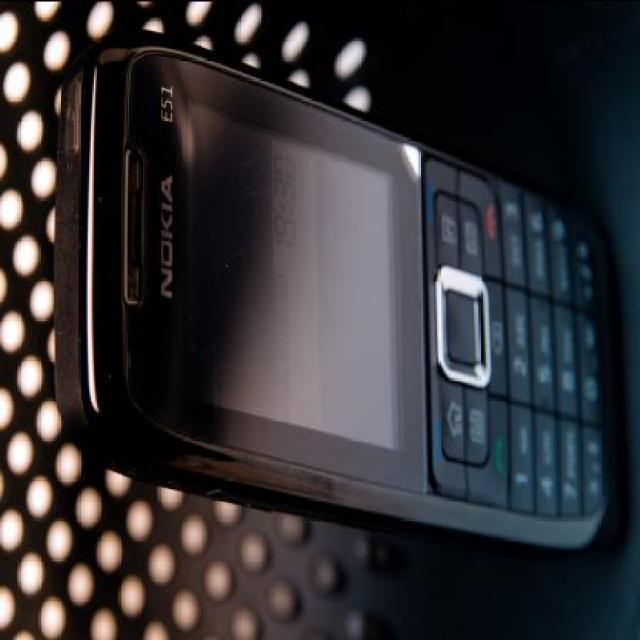phone: (76, 52, 624, 556)
